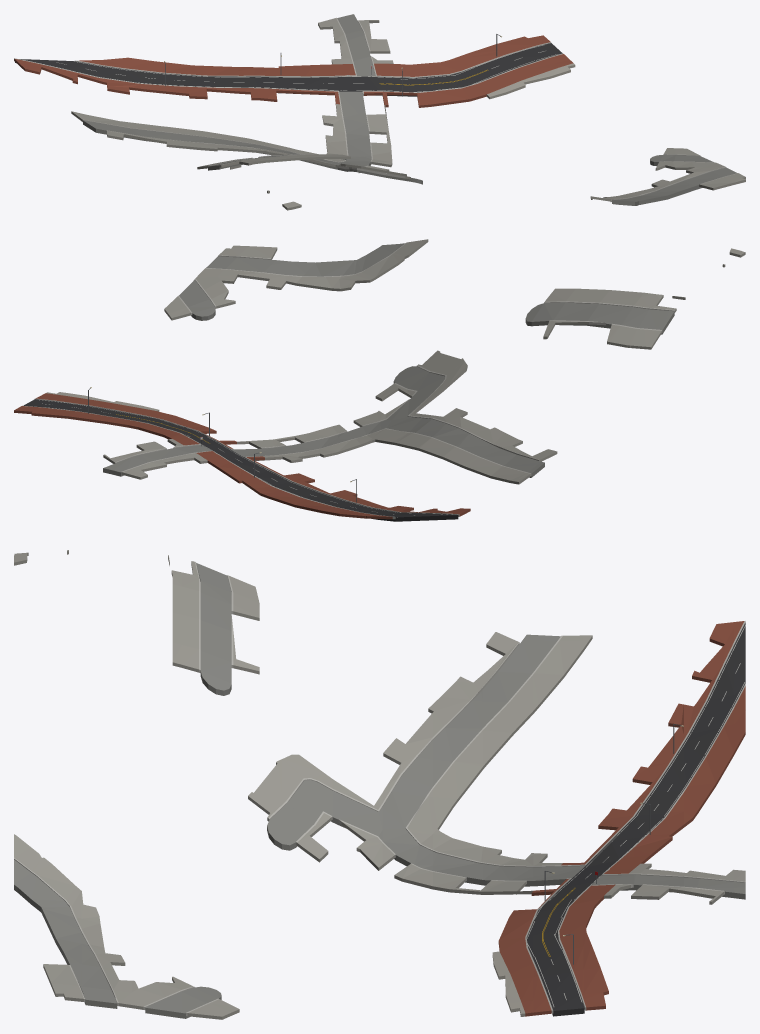
3 views of the same model, one above another, from view 1: azimuth 30°, elevation 25°; view 2: azimuth 150°, elevation 25°; view 3: azimuth 270°, elevation 25° (orthographic). The views are drawn at different scales.
Size of the model in its own units: 147 by 37.45 by 146.
